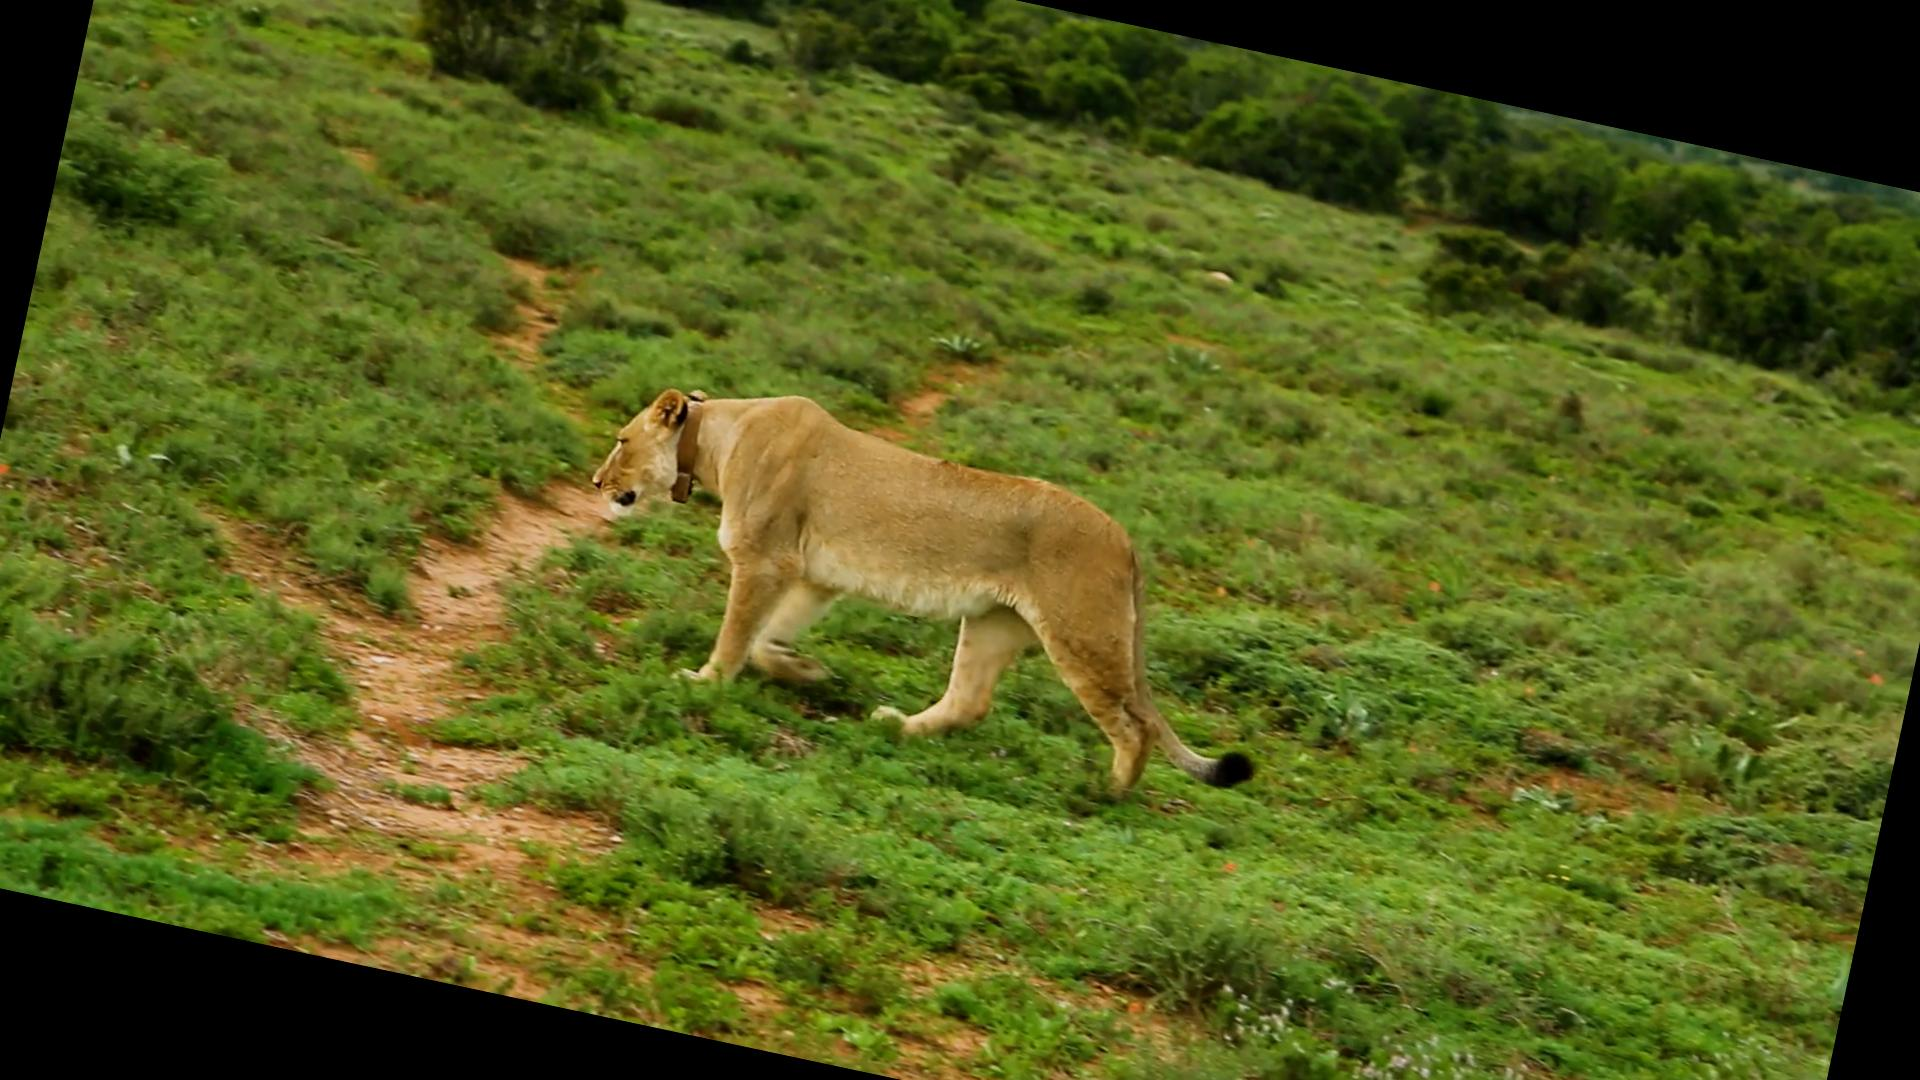lions: (510, 286, 1379, 876)
